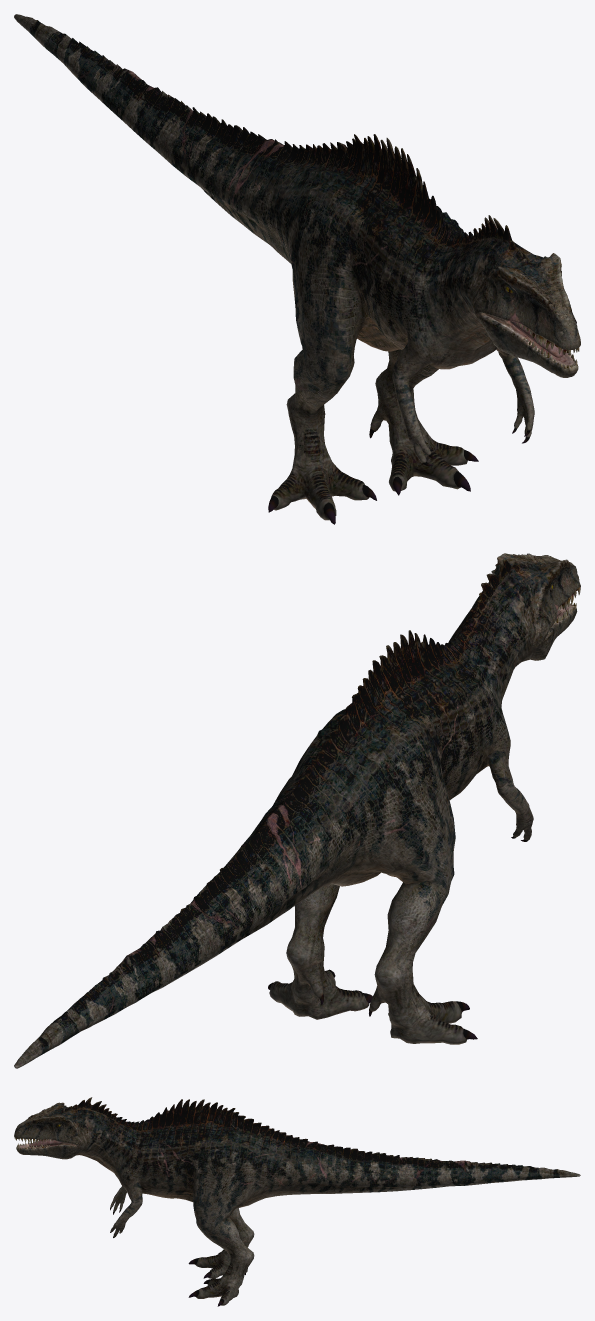
The model's file is giganotosaurus.gltf.
3 renders of one model, top to bottom at view 1: azimuth 30°, elevation 25°; view 2: azimuth 150°, elevation 25°; view 3: azimuth 270°, elevation 25°, orthographic. The views are drawn at different scales.
Visible parts, largest first — view 1: Object_2; view 2: Object_2; view 3: Object_2.
Part boxes in pixels (x1=…): Object_2: x1=14, y1=14, x2=580, y2=524; Object_2: x1=14, y1=553, x2=580, y2=1068; Object_2: x1=14, y1=1097, x2=580, y2=1306.
Size of the model in its own units: 3.53 by 5.86 by 16.31.
Materials: 1 (1 with a texture image).
